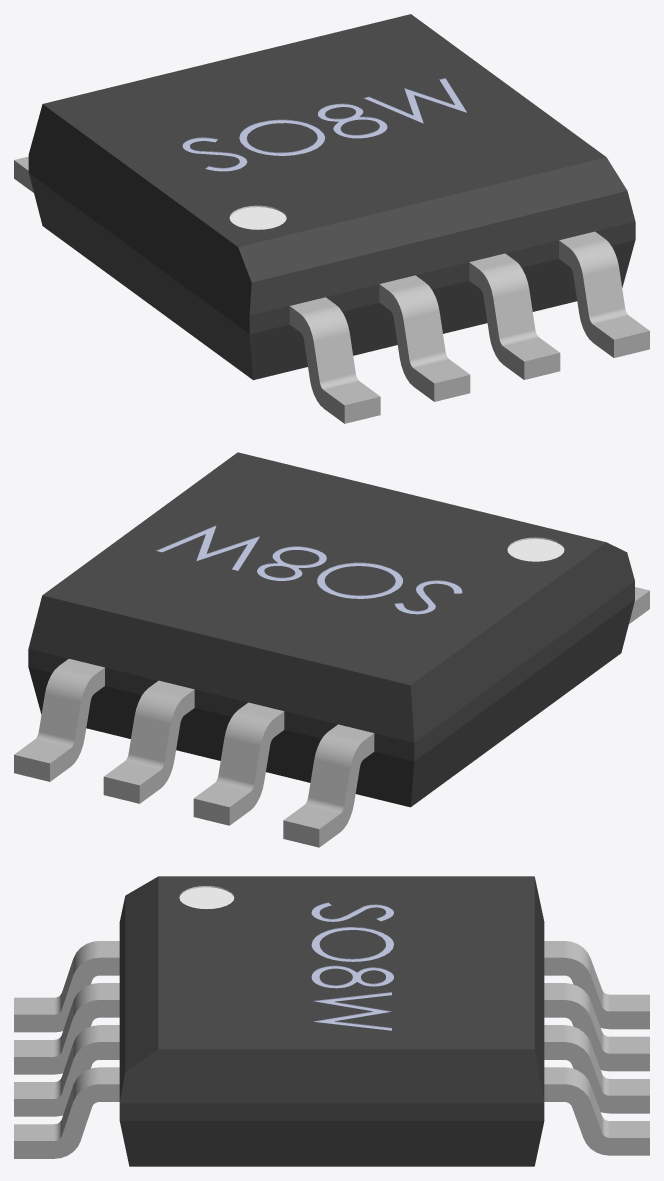
Rendered from SO-8_208mil---SOIC8_Wide_5mmx5mm-77de16ff1d10.glb.
3 renders of one model, top to bottom at view 1: azimuth 30°, elevation 25°; view 2: azimuth 150°, elevation 25°; view 3: azimuth 270°, elevation 25°, orthographic. The views are drawn at different scales.
Parts seen in each view (by area): view 1: material1, material2, material3, material0; view 2: material1, material2, material3, material0; view 3: material1, material2, material3, material0.
Boxes of the visible parts, bbox=[...] form: material1: bbox=[28, 14, 635, 380]; material2: bbox=[14, 156, 649, 423]; material3: bbox=[182, 78, 467, 171]; material0: bbox=[229, 205, 286, 229]; material1: bbox=[28, 452, 634, 807]; material2: bbox=[14, 587, 649, 847]; material3: bbox=[156, 525, 462, 614]; material0: bbox=[507, 537, 564, 561]; material1: bbox=[119, 876, 544, 1166]; material2: bbox=[14, 941, 649, 1158]; material3: bbox=[311, 902, 393, 1030]; material0: bbox=[179, 886, 234, 909].
Size of the model in its own units: 5.46 by 1.75 by 8.1.
